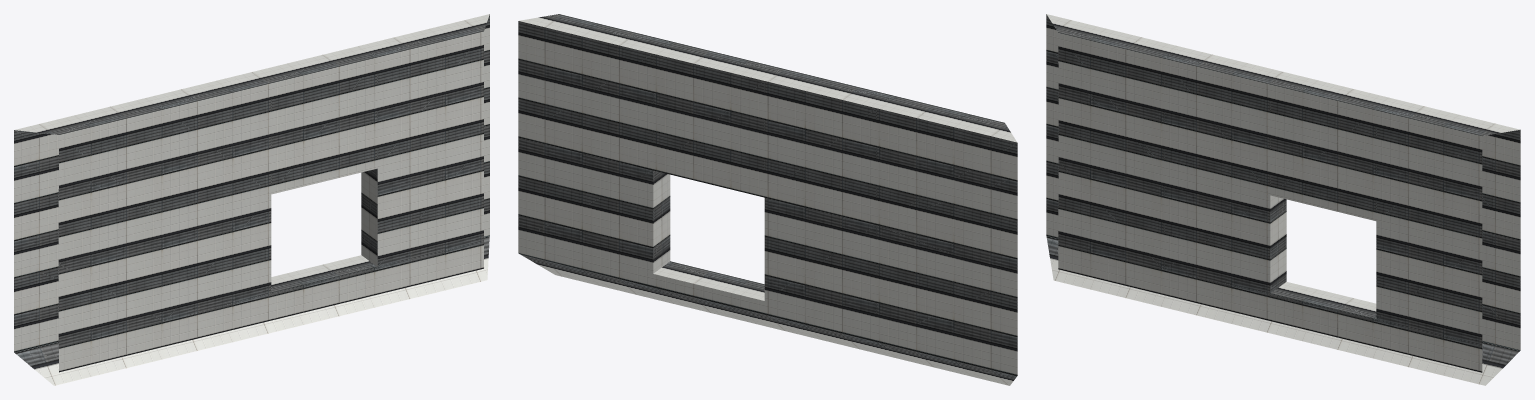
Rendered from wall1.FBX.
The picture shows the model from 3 angles, left to right: view 1: azimuth 30°, elevation 25°; view 2: azimuth 150°, elevation 25°; view 3: azimuth 330°, elevation 25°; orthographic projection. The views are drawn at different scales.
Visible parts, largest first — view 1: Object004; view 2: Object004; view 3: Object004.
Boxes of the visible parts, x1,y1,x2,y2 form: Object004: [14, 14, 489, 385]; Object004: [518, 14, 1017, 385]; Object004: [1046, 14, 1520, 385].
Bounding box in the file's own units: 336 × 168 × 20.
